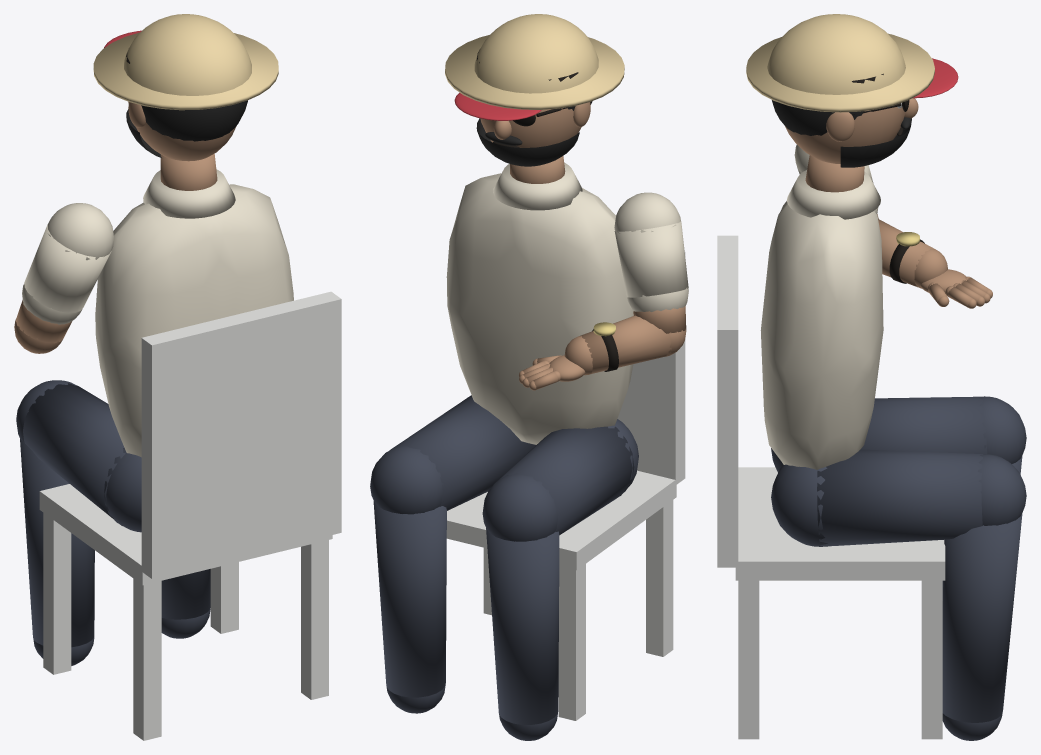
The model's file is player.glb.
3 renders of one model, left to right at view 1: azimuth 30°, elevation 25°; view 2: azimuth 150°, elevation 25°; view 3: azimuth 270°, elevation 25°, orthographic. The views are drawn at different scales.
Parts seen in each view (by area): view 1: Chair, Torso, Thigh_L, Acc_Hat_Crown, Sleeve_L, Shin_L, Acc_Hat_Brim, Shin_R, Hair, Collar, Neck, Head (+2 smaller); view 2: Torso, Chair, Shin_L, Shin_R, Thigh_L, Thigh_R, Acc_Hat_Crown, Sleeve_L, Acc_Hat_Brim, Forearm_L, Collar, Head (+5 smaller); view 3: Torso, Chair, Thigh_R, Shin_R, Thigh_L, Acc_Hat_Crown, Acc_Hat_Brim, Head, Collar, Forearm_L, Neck, Hair (+3 smaller).
Part boxes in pixels (left/top/right/bottom): Chair: left=39, top=291, right=341, bottom=740; Torso: left=95, top=184, right=293, bottom=457; Thigh_L: left=16, top=380, right=141, bottom=532; Acc_Hat_Crown: left=124, top=14, right=251, bottom=95; Sleeve_L: left=22, top=203, right=114, bottom=324; Shin_L: left=20, top=438, right=94, bottom=665; Acc_Hat_Brim: left=93, top=32, right=278, bottom=110; Shin_R: left=161, top=569, right=210, bottom=638; Hair: left=141, top=100, right=247, bottom=141; Collar: left=143, top=169, right=235, bottom=218; Neck: left=160, top=153, right=217, bottom=190; Head: left=128, top=102, right=236, bottom=161; Torso: left=446, top=173, right=633, bottom=444; Chair: left=446, top=252, right=685, bottom=720; Shin_L: left=486, top=528, right=559, bottom=740; Shin_R: left=373, top=501, right=446, bottom=713; Thigh_L: left=482, top=419, right=638, bottom=541; Thigh_R: left=370, top=395, right=535, bottom=514; Acc_Hat_Crown: left=474, top=14, right=598, bottom=93; Sleeve_L: left=614, top=192, right=688, bottom=311; Acc_Hat_Brim: left=445, top=35, right=624, bottom=109; Forearm_L: left=564, top=315, right=686, bottom=375; Collar: left=493, top=163, right=582, bottom=210; Head: left=480, top=108, right=581, bottom=147; Torso: left=760, top=201, right=883, bottom=469; Chair: left=717, top=235, right=945, bottom=739; Thigh_R: left=771, top=449, right=1026, bottom=546; Shin_R: left=942, top=513, right=1022, bottom=740; Thigh_L: left=771, top=396, right=1026, bottom=472; Acc_Hat_Crown: left=767, top=14, right=905, bottom=94; Acc_Hat_Brim: left=746, top=33, right=934, bottom=112; Head: left=785, top=107, right=905, bottom=163; Collar: left=787, top=170, right=880, bottom=219; Forearm_L: left=878, top=219, right=947, bottom=288; Neck: left=805, top=155, right=864, bottom=192; Hair: left=772, top=100, right=863, bottom=135.
Size of the model in its own units: 22.9 by 58 by 23.6.
